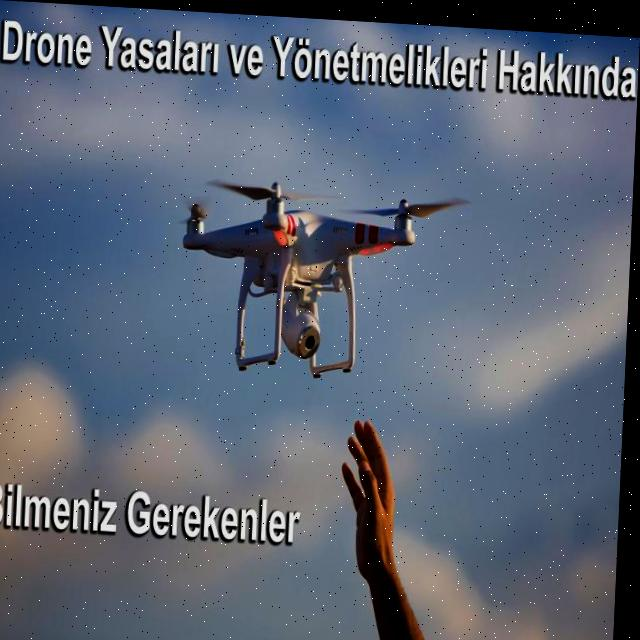drone: (163, 160, 465, 326)
